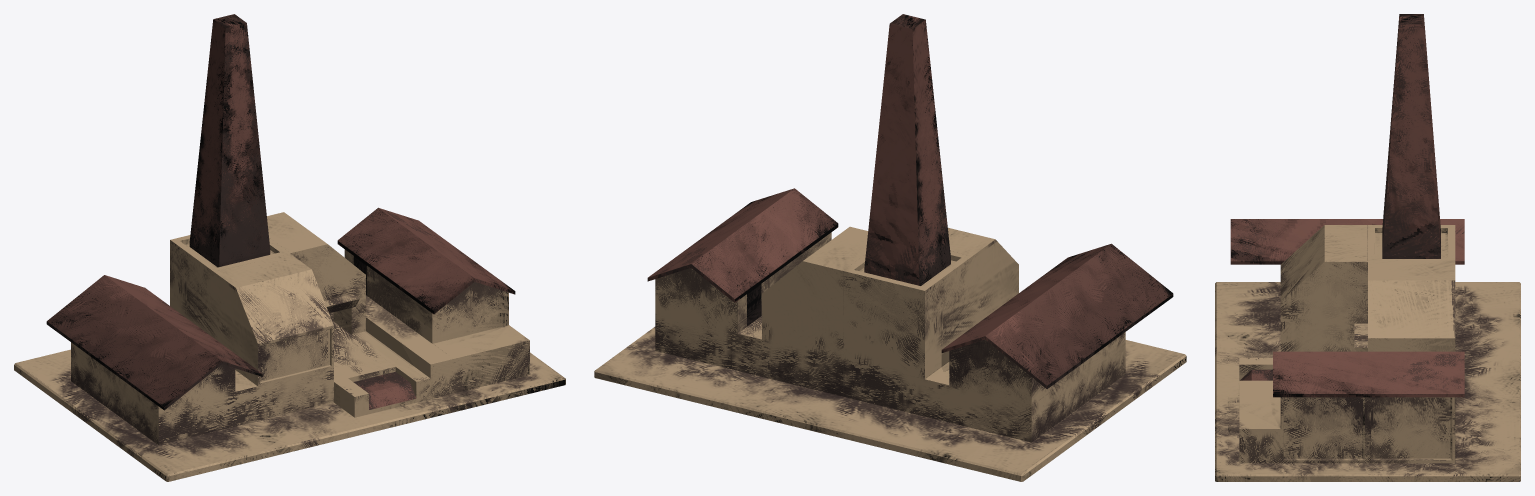
3 renders of one model, left to right at view 1: azimuth 30°, elevation 25°; view 2: azimuth 150°, elevation 25°; view 3: azimuth 270°, elevation 25°, orthographic. The views are drawn at different scales.
Parts seen in each view (by area): view 1: 3x2A; view 2: 3x2A; view 3: 3x2A.
Part boxes in pixels (x1,y1,x2,y2): 3x2A: (14, 14, 565, 481); 3x2A: (594, 14, 1186, 481); 3x2A: (1215, 14, 1520, 481).
Bounding box in the file's own units: 3 × 2.51 × 2.
2 materials, 2 textured.
